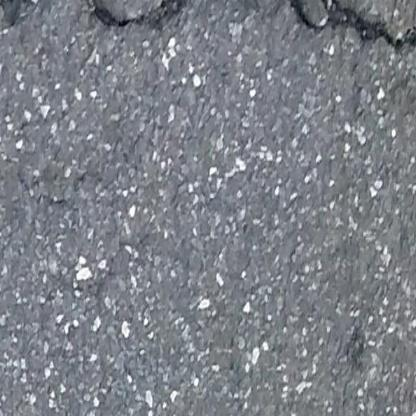Cracks: (279, 0, 416, 55), (68, 0, 233, 33), (0, 0, 27, 12)
